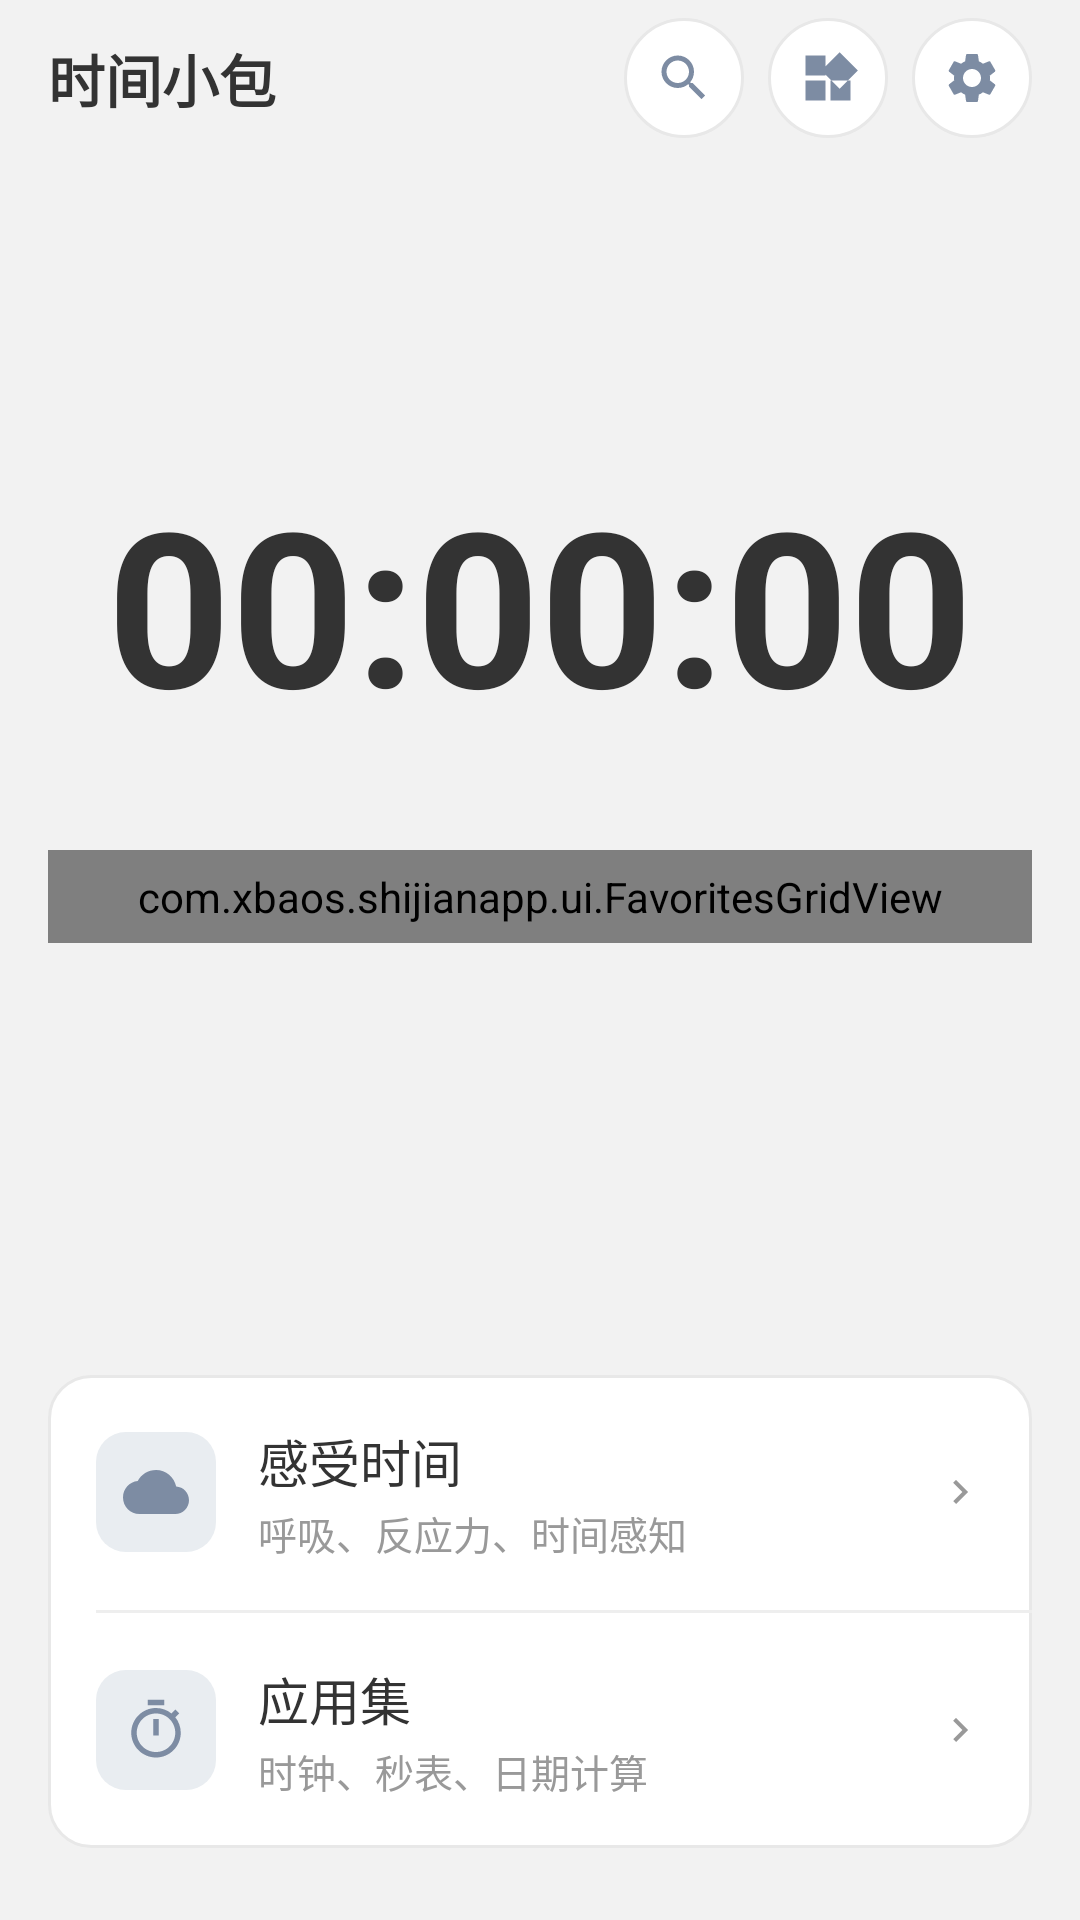

Icons on this 1080 × 1920 Android screen, each with its box as (x1, y1, x2, y2):
chevron right: (953, 1480, 968, 1504), (953, 1718, 968, 1742)
cloud: (123, 1470, 189, 1514)
timer: (96, 1670, 216, 1790)
搜索: (624, 18, 744, 138)
组件: (805, 52, 858, 101)
设置: (949, 54, 995, 102)
